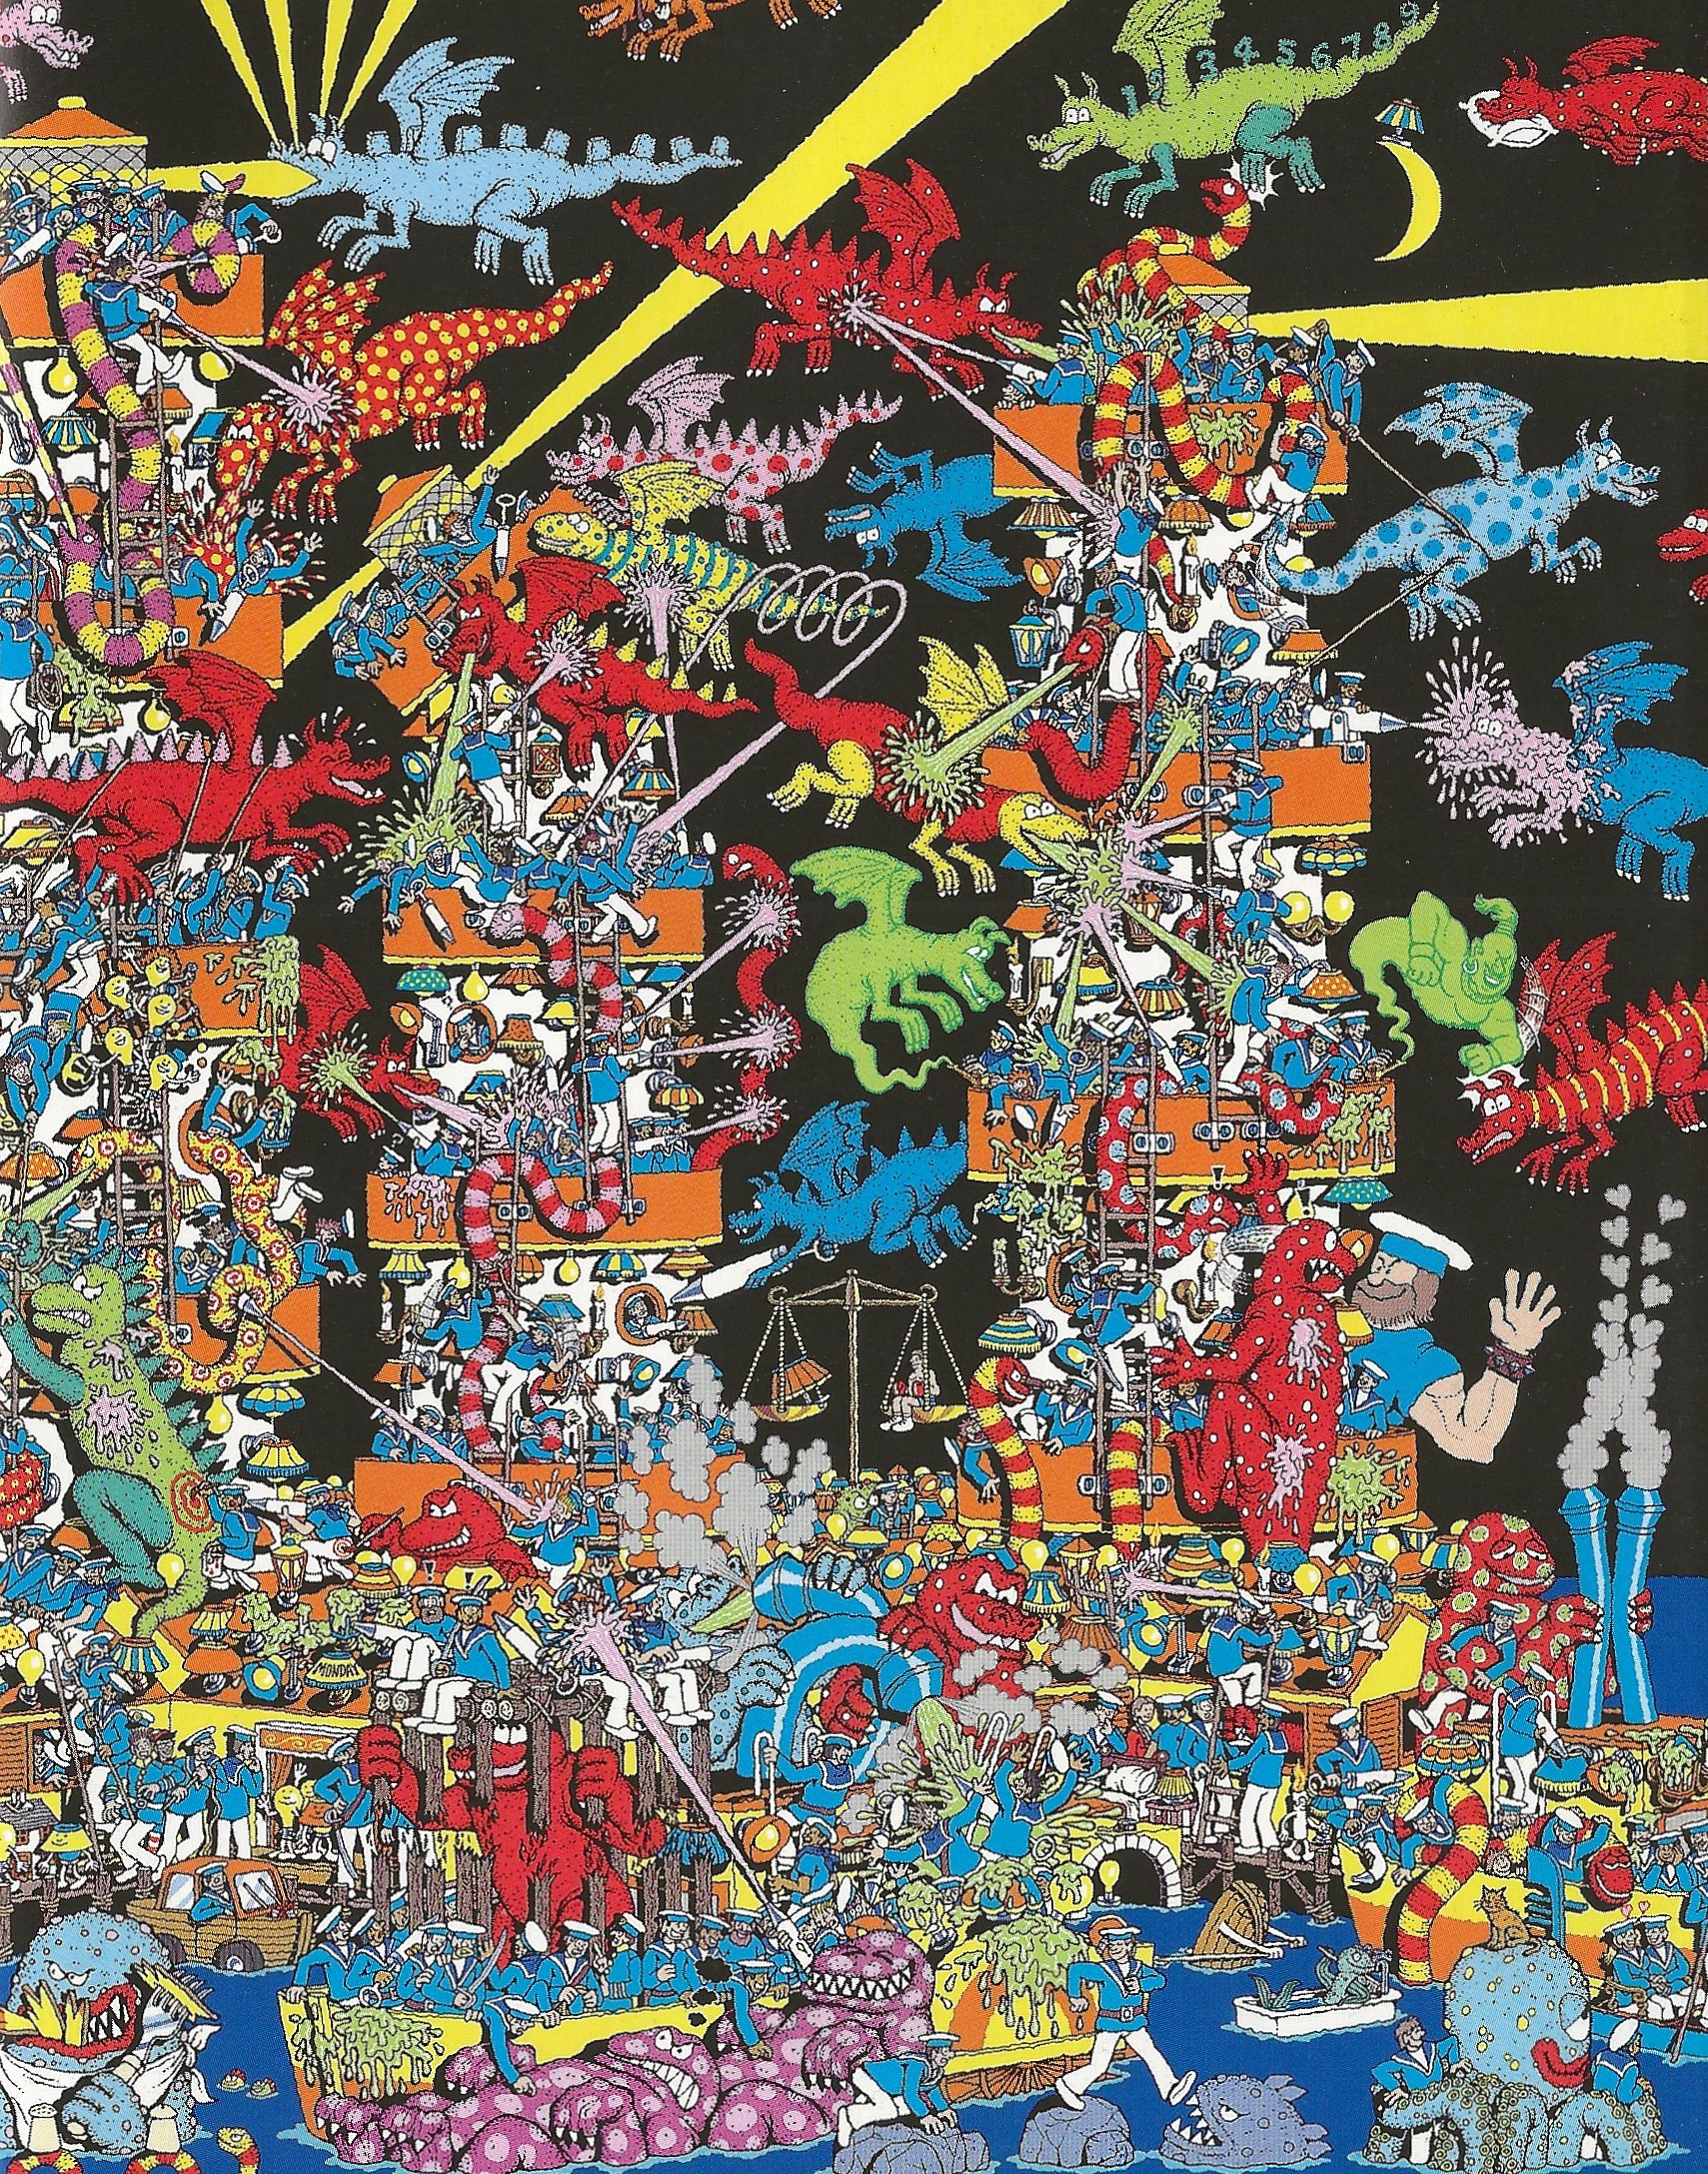Wenda: (148, 1728, 176, 1765)
